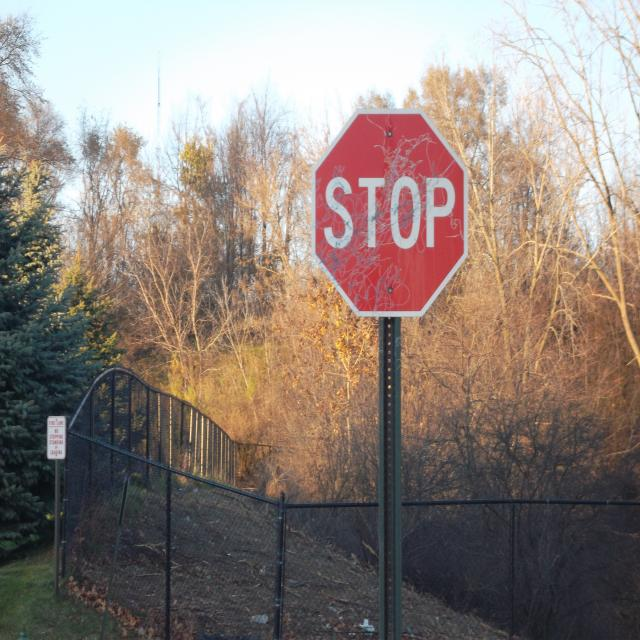stop: (308, 107, 473, 324)
